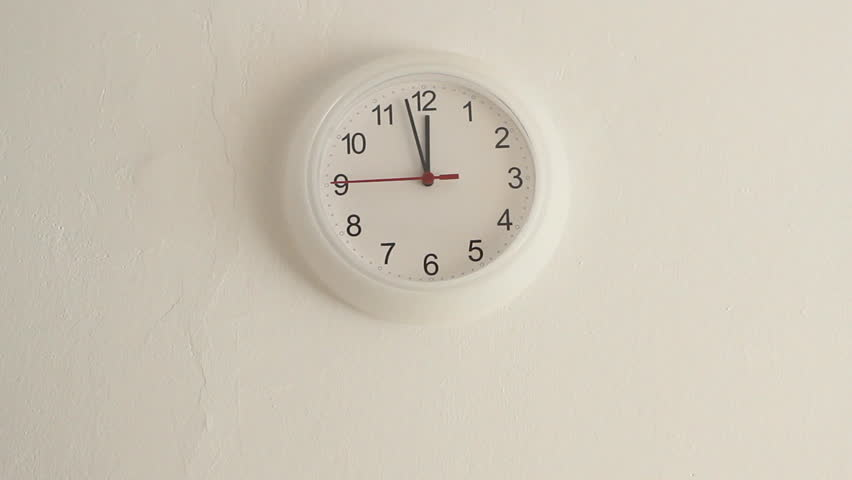clock: (317, 69, 539, 286)
